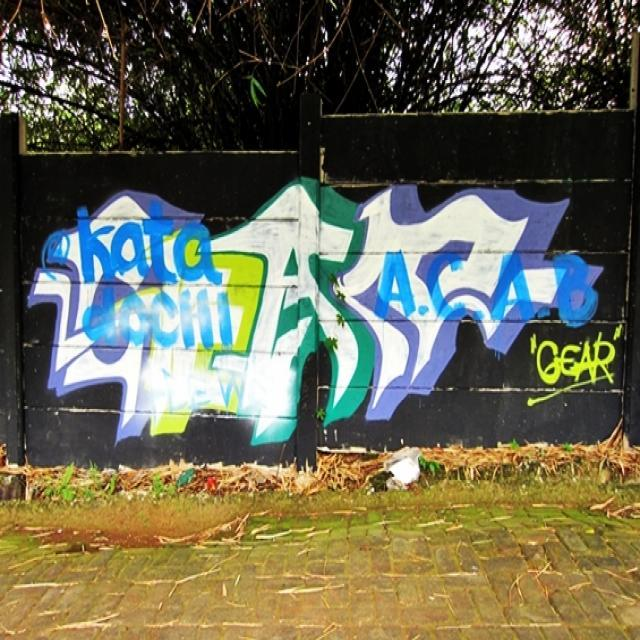-: (27, 176, 606, 446), (527, 326, 625, 406)
